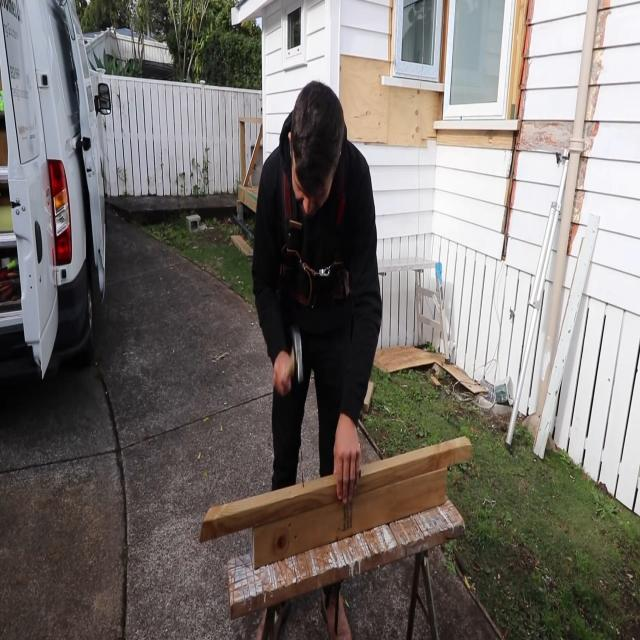hammer: (283, 325, 304, 386)
